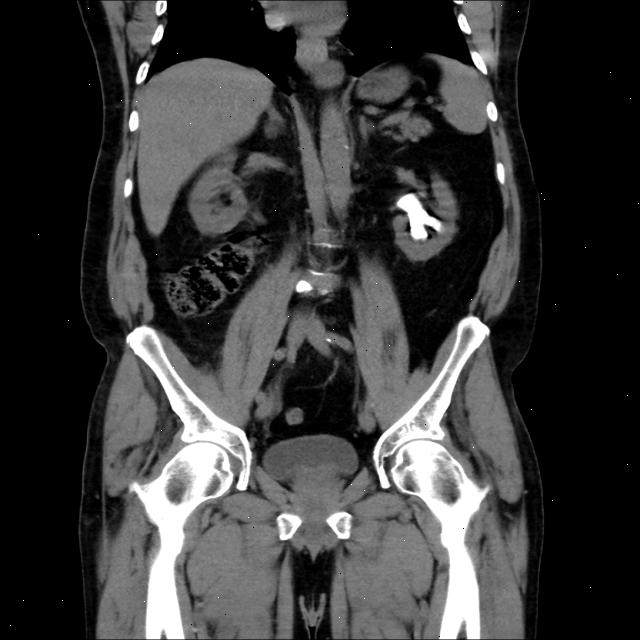kidneystone: (397, 194, 442, 240)
